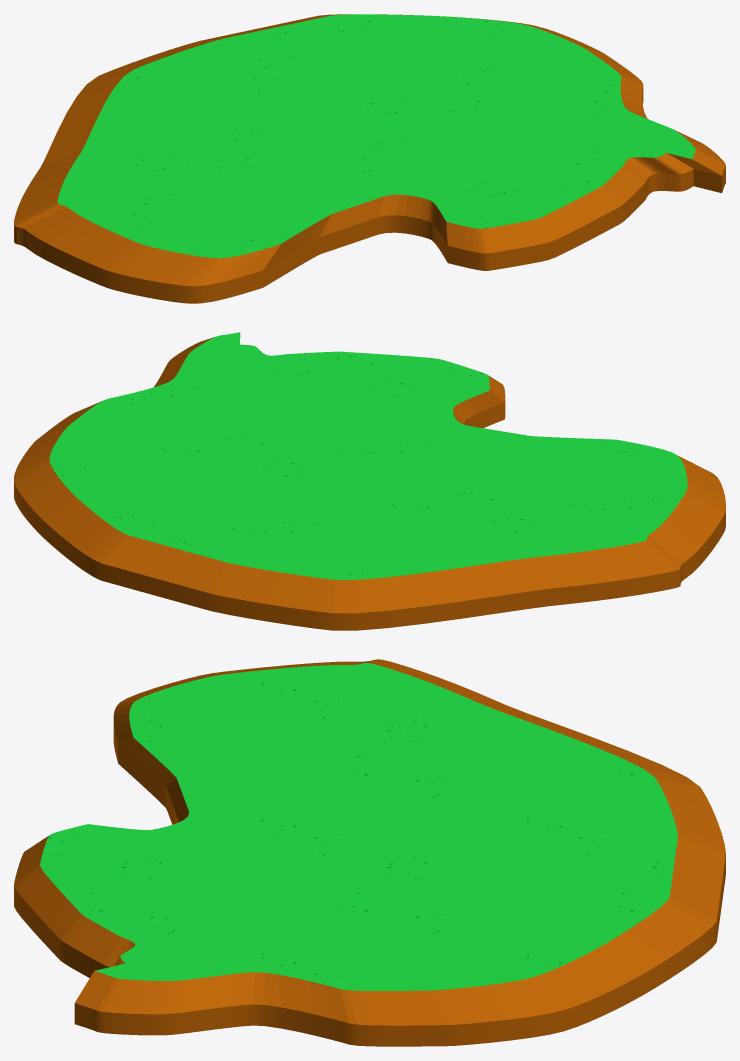
File: Island.fbx
3 renders of one model, top to bottom at view 1: azimuth 30°, elevation 25°; view 2: azimuth 150°, elevation 25°; view 3: azimuth 270°, elevation 25°, orthographic. The views are drawn at different scales.
Parts seen in each view (by area): view 1: Line001; view 2: Line001; view 3: Line001.
Part boxes in pixels (box(x1,y1,x2,y2)): Line001: box(14, 14, 725, 303); Line001: box(14, 332, 725, 630); Line001: box(14, 659, 725, 1046).
Size of the model in its own units: 112 by 91.64 by 5.74.
2 materials, 1 textured.
